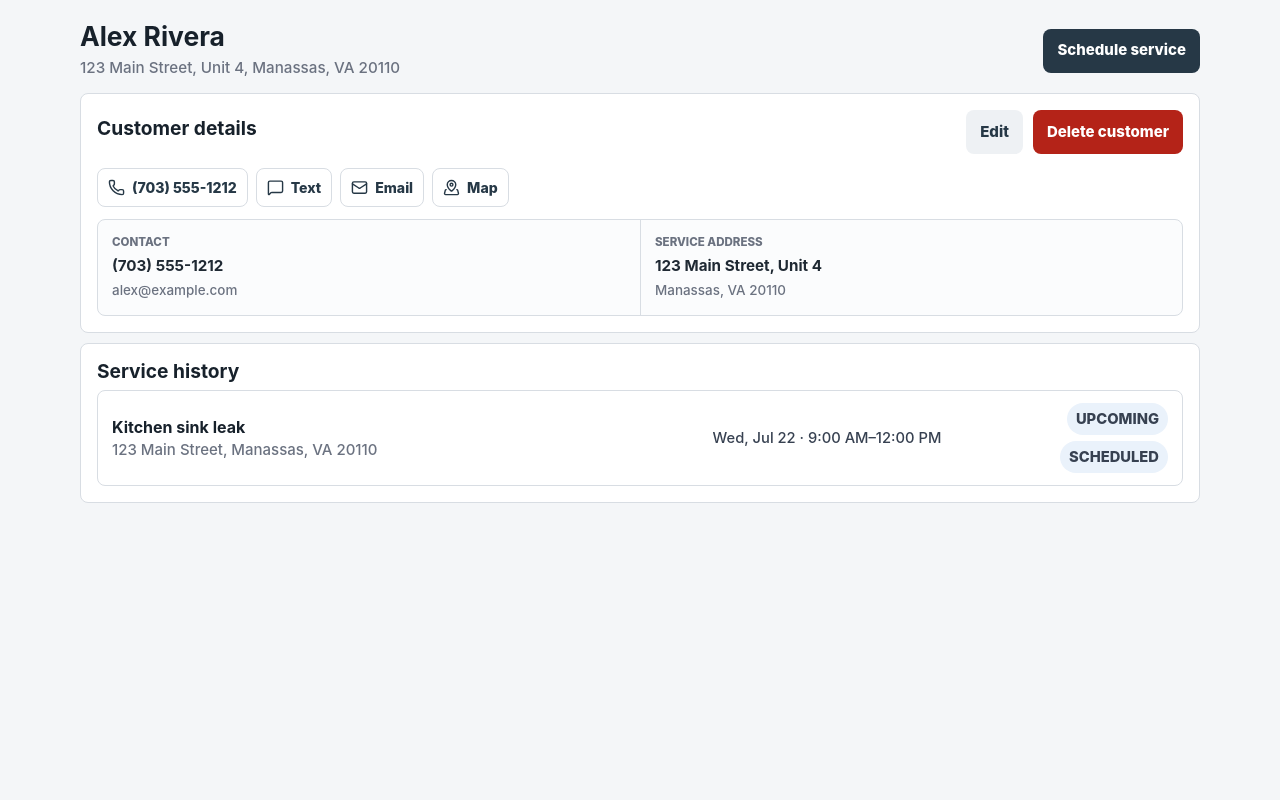
Test: customer surface clutter reduction › shows a concise customer summary before revealing editable and consent fields
Expected: the number of links "Schedule service" is 1, [1043,29,1200,73]
Expected: the link named "Call Alex Rivera" is shown, [97,168,248,207]
Click the button "Edit" at (995, 132), box [966,110,1023,154]
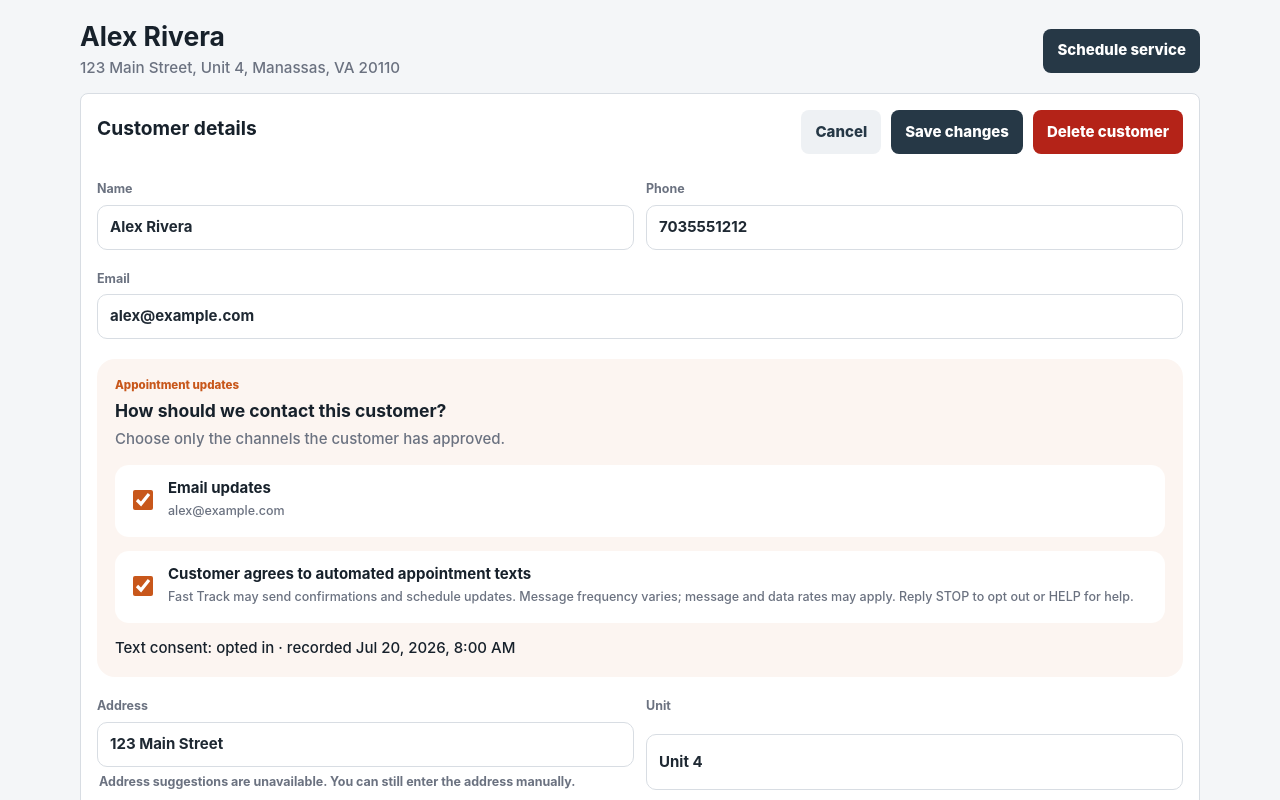
Expected: the text "Reply STOP to opt out" is shown, [168,589,1134,604]
Expected: the button "Save changes" is shown, [891,110,1023,154]
Click the button "Cancel" at (841, 132), box [802,110,881,154]
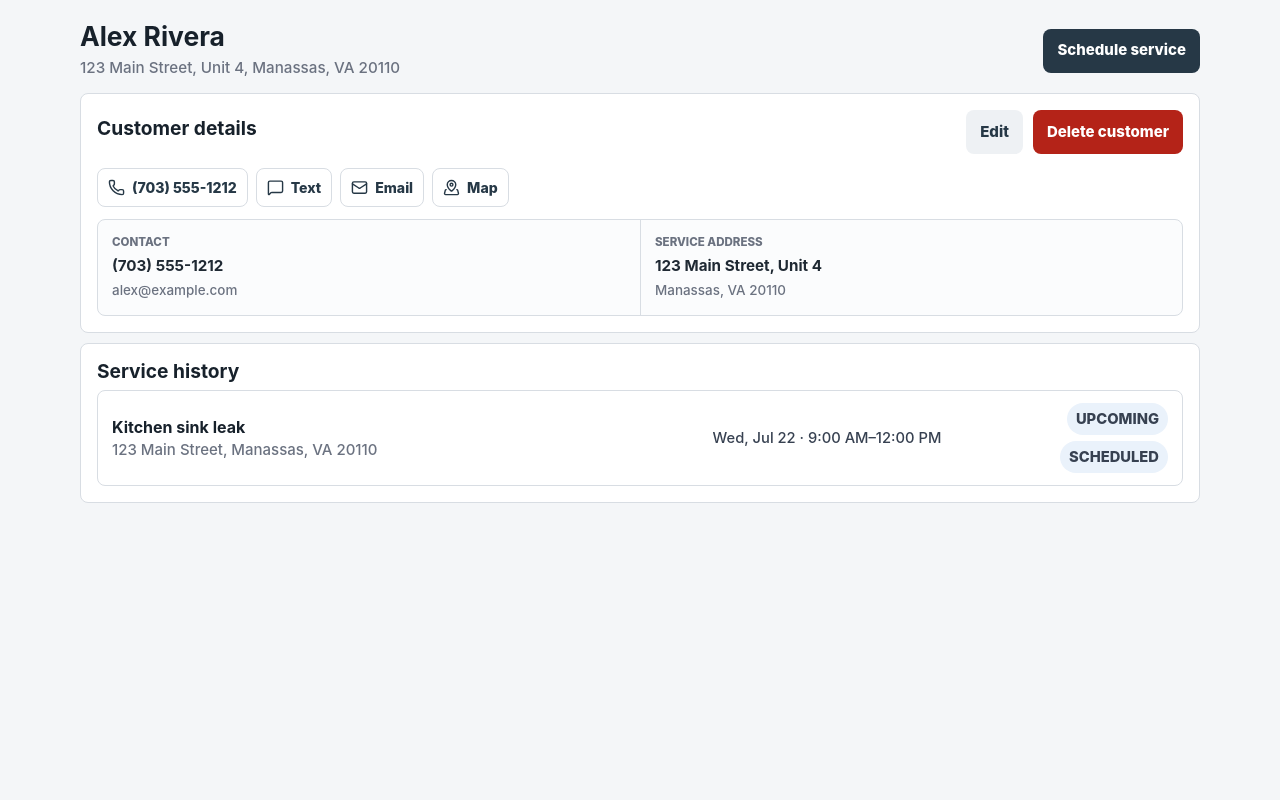
Expected: the button "Edit" is shown, [966,110,1023,154]
